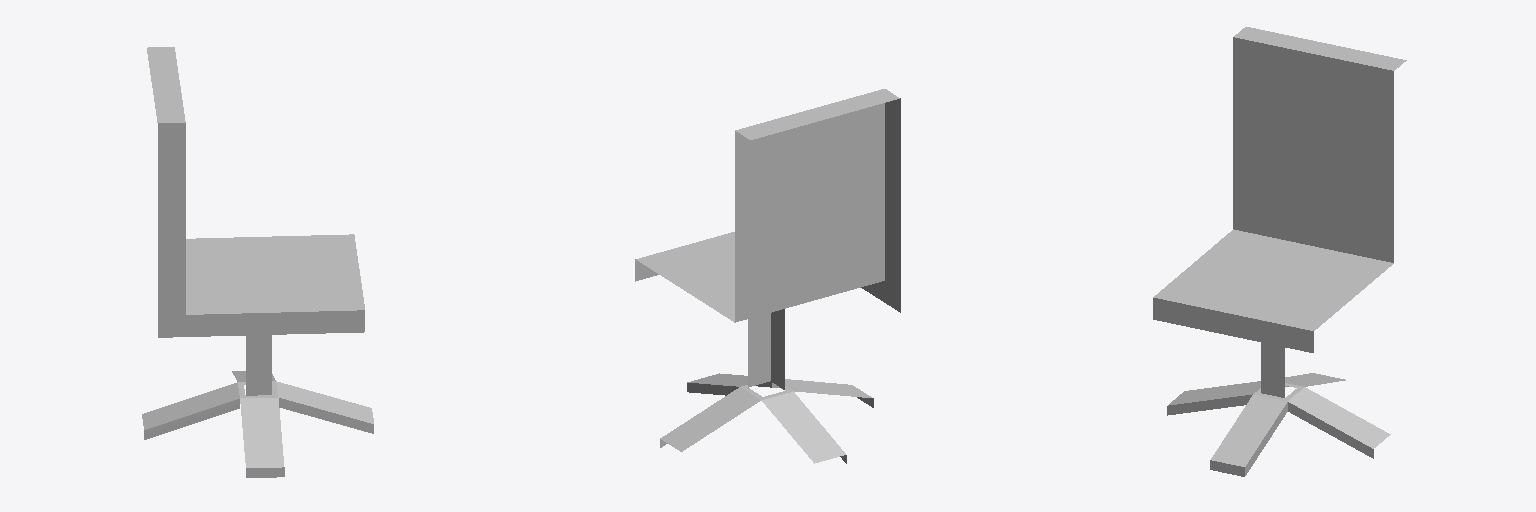
File: anna_office_chair.obj
3 views of the same model, side by side, from view 1: azimuth 30°, elevation 25°; view 2: azimuth 150°, elevation 25°; view 3: azimuth 270°, elevation 25° (orthographic).
Visible parts, largest first — view 1: Chair.002; view 2: Chair.002; view 3: Chair.002.
Boxes of the visible parts, <box> form: Chair.002: <box>142,47,373,477</box>; Chair.002: <box>635,89,900,463</box>; Chair.002: <box>1153,27,1406,476</box>.
Size of the model in its own units: 1.28 by 1.84 by 1.22.